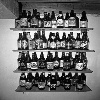beer: (41, 11, 52, 28)
